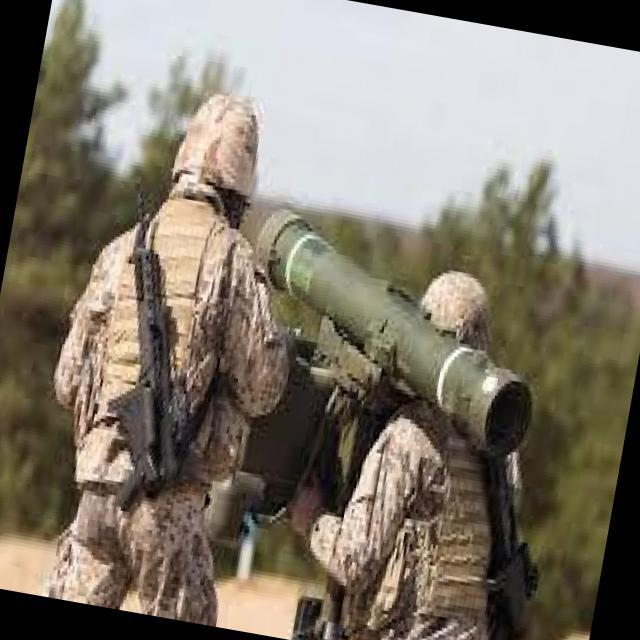rocket: (228, 202, 560, 461)
